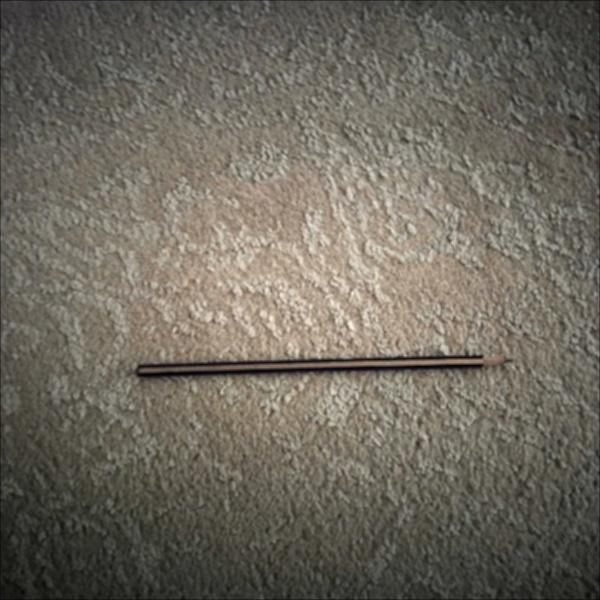pencil: (133, 350, 524, 387)
